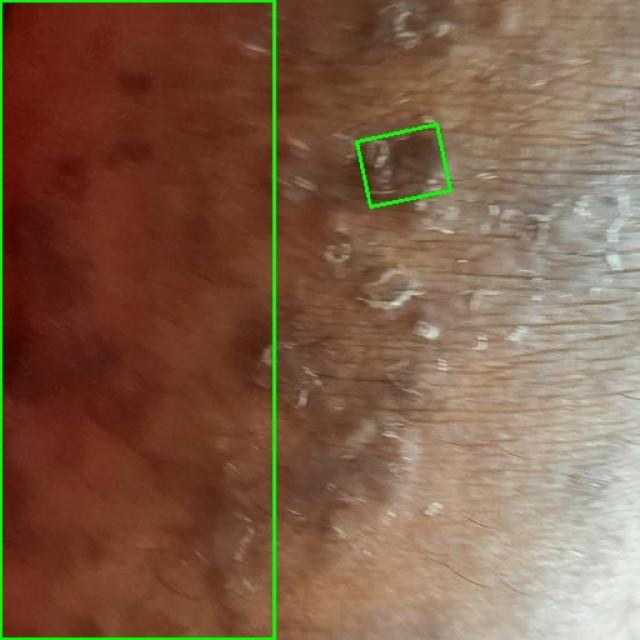Tinea Corporis: (0, 0, 274, 639), (357, 125, 451, 207)
